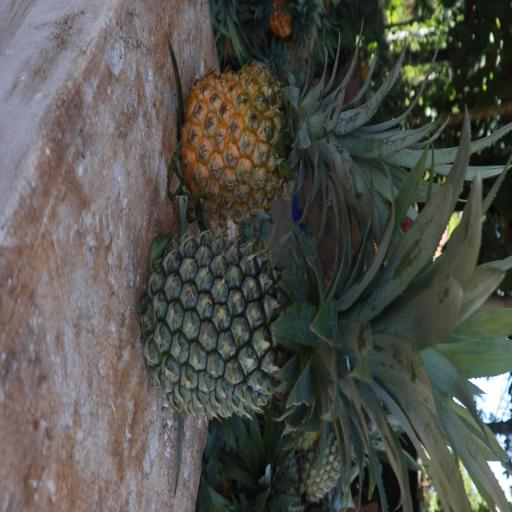Pineapple - v8 v1: (182, 70, 430, 208)
